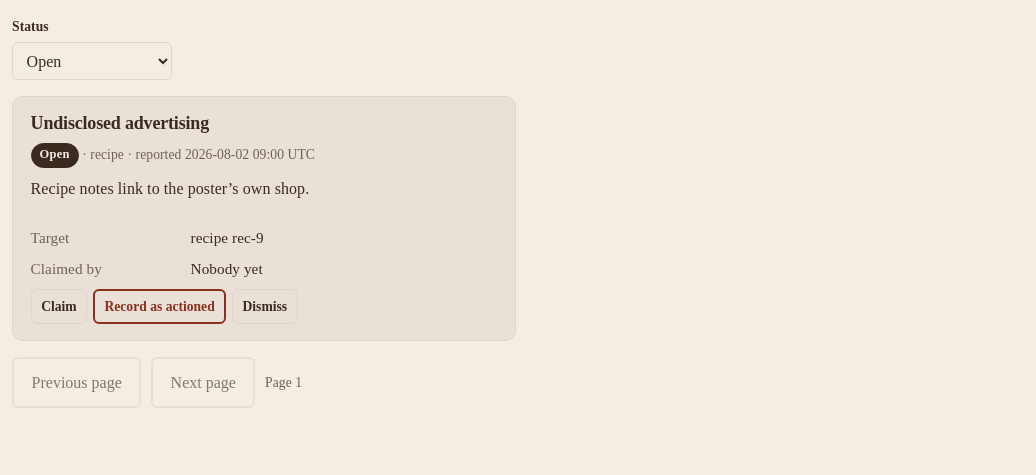
Test: moderation queue › claims a report and says who it belongs to now
Check: the heading "Undisclosed advertising" is shown, box [31, 113, 209, 133]
Click the button "Claim".
click(59, 307)  # box [31, 289, 87, 324]
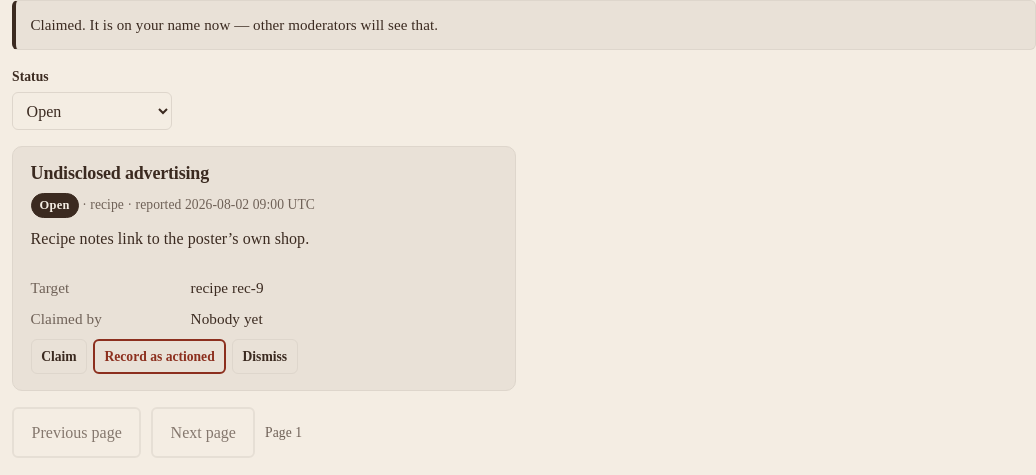
Check: the text "Claimed. It is on your name now — other moderators will see that." is shown, box [12, 0, 1035, 50]
